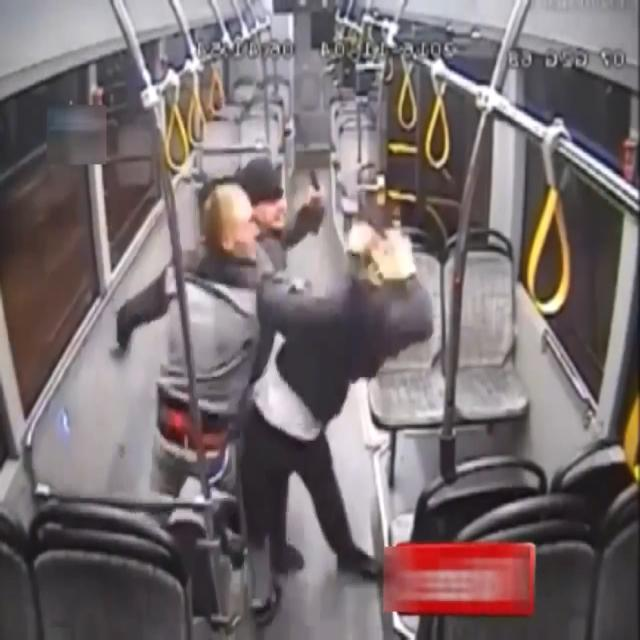fight: (157, 159, 436, 571)
